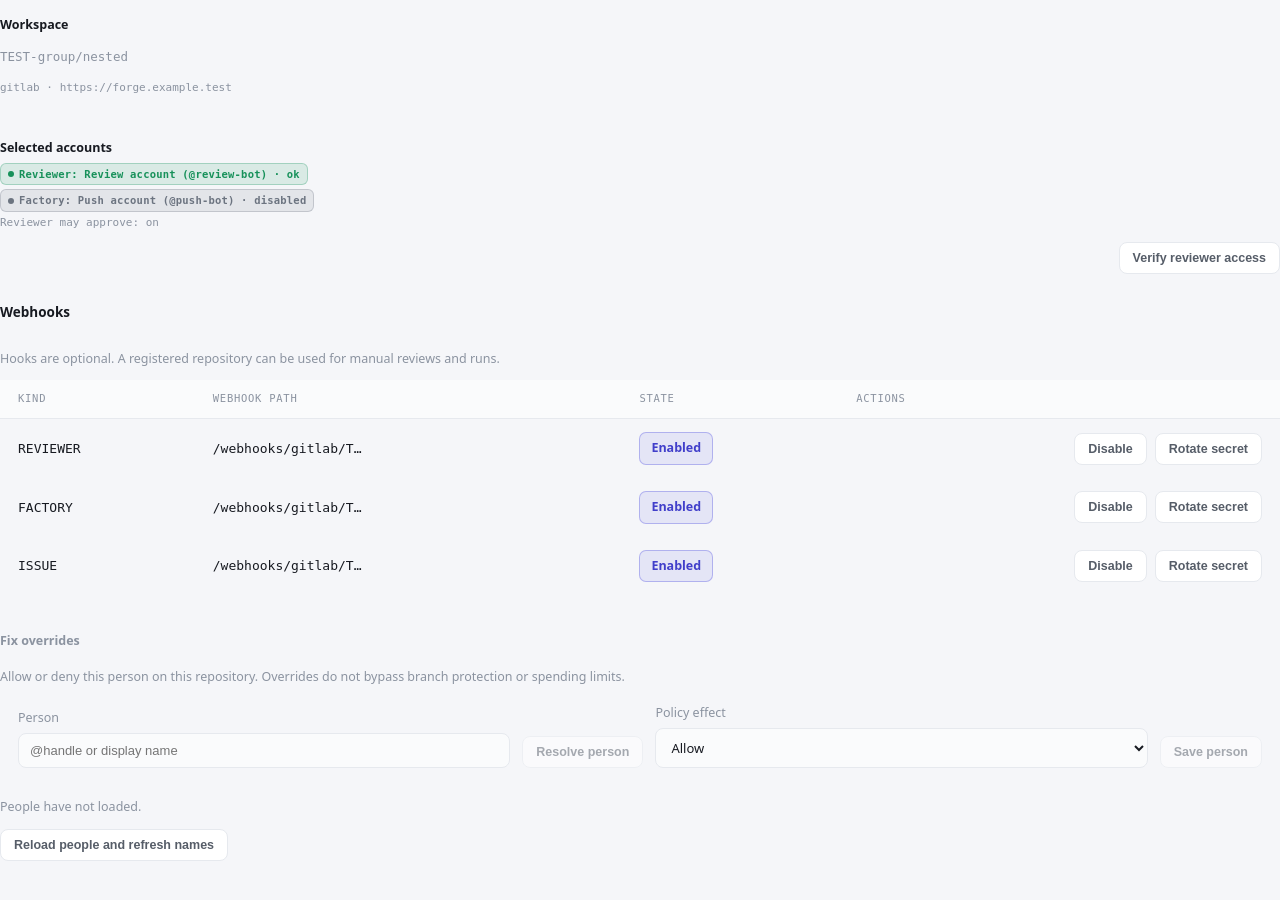
Test: RepositoryDetail secret rotation › tells the operator to replace the secret on the existing forge webhook, not to add a second one
Click the button with aria-label "Rotate FACTORY secret".
click(1208, 507)  # box [1155, 491, 1262, 523]
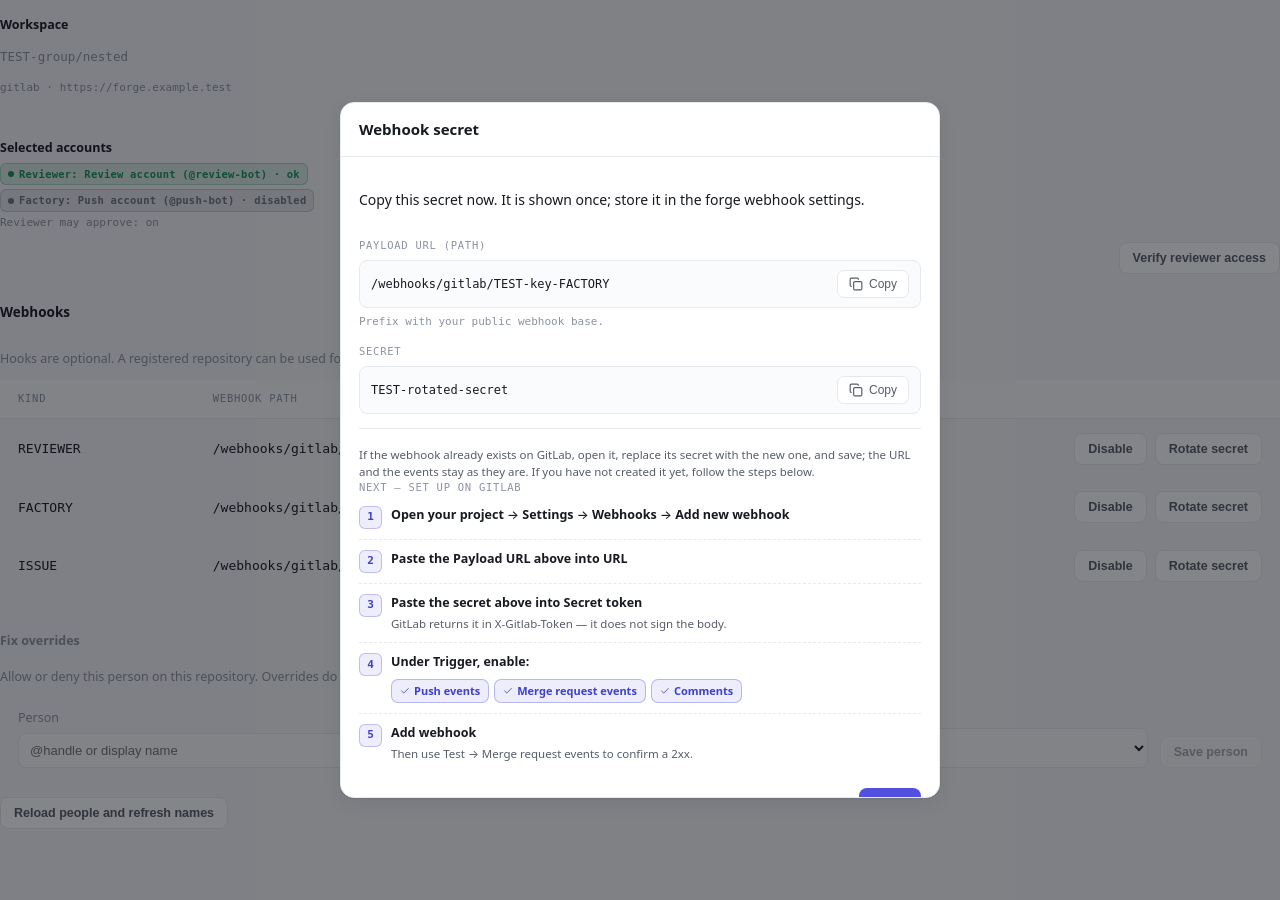
Result: the text "TEST-rotated-secret" is shown at [371, 383, 508, 397]
Result: the text "webhook already exists on GitLab" is shown at [359, 446, 921, 480]
Result: the text "Open your project → Settings → Webhooks → Add new webhook" is shown at [391, 506, 790, 523]
